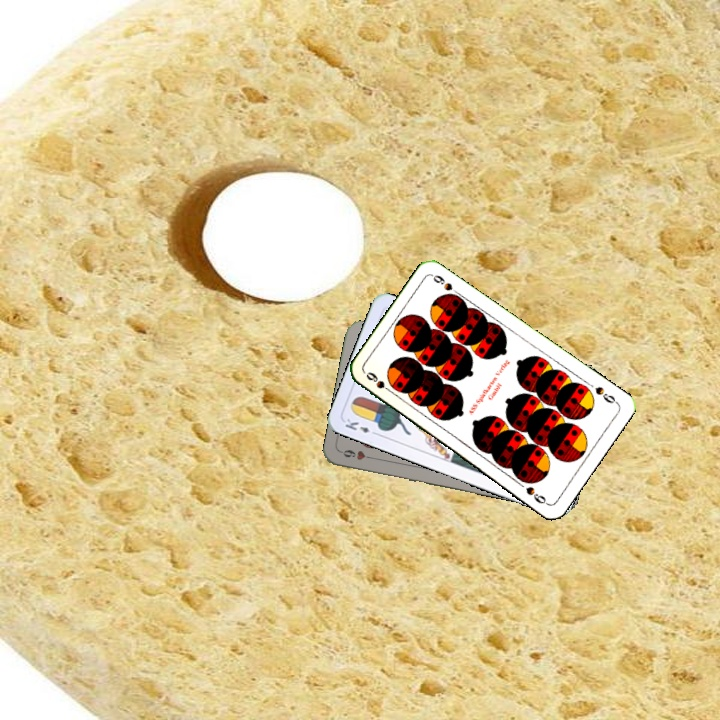EK: (341, 414, 381, 438)
H9: (337, 446, 377, 463)
S9: (362, 368, 398, 397), (591, 382, 621, 407)
